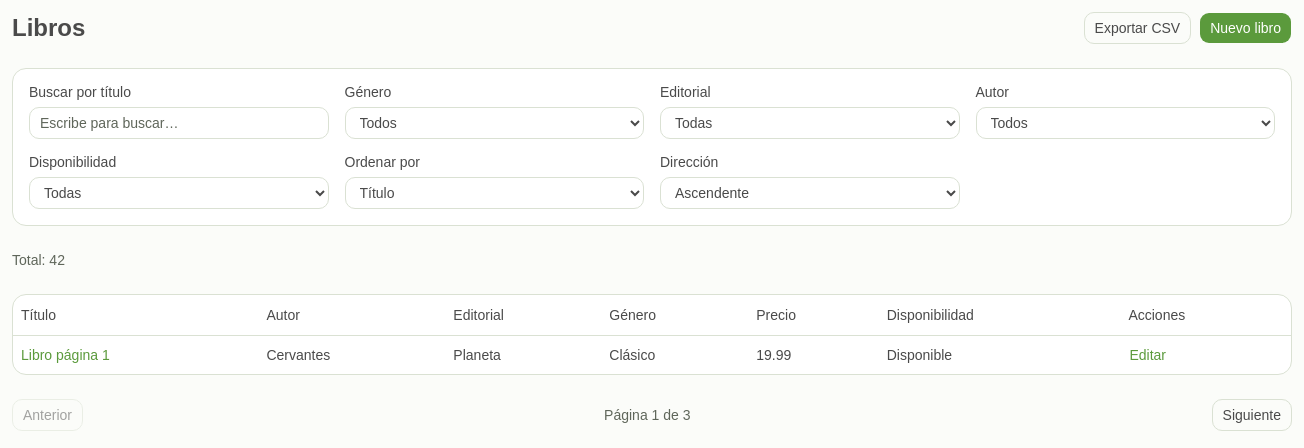
Test: BooksListPage (T14) › cambio de página dispara fetch con page nuevo y muestra meta.total
Expected: the link "Libro página 1" is shown, [21,346,110,362]
Expected: the text with test id "books-total" reads "Total: 42", [12,252,65,268]
Click the button "Siguiente": (1252, 414) [1212,398,1292,430]
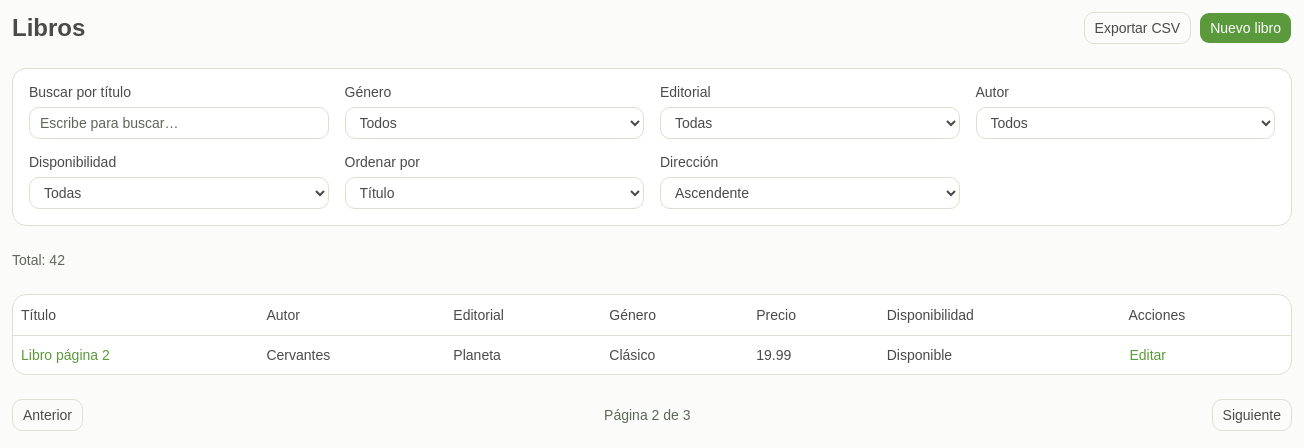
Expected: the text with test id "books-total" reads "Total: 42", [12,252,65,268]
Expected: the link "Libro página 2" is shown, [21,346,110,362]
Expected: the text with test id "books-page-info" reads "Página 2 de 3", [604,404,690,424]
